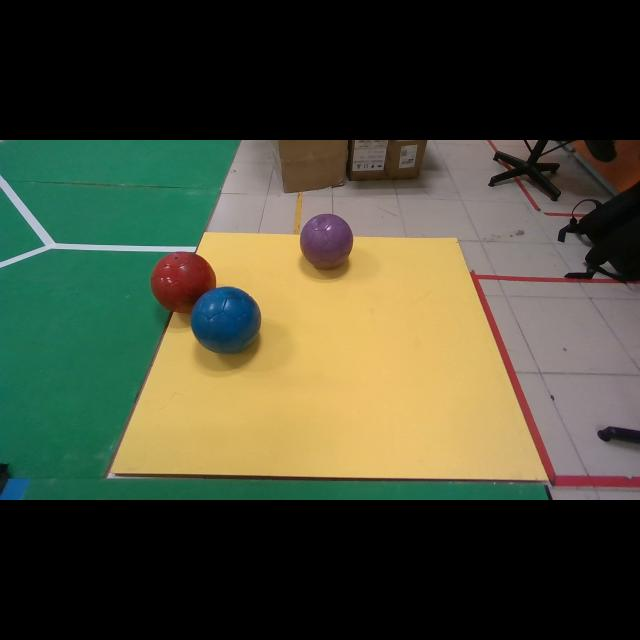B: (192, 286, 261, 354)
P: (300, 214, 352, 269)
R: (150, 251, 216, 314)
